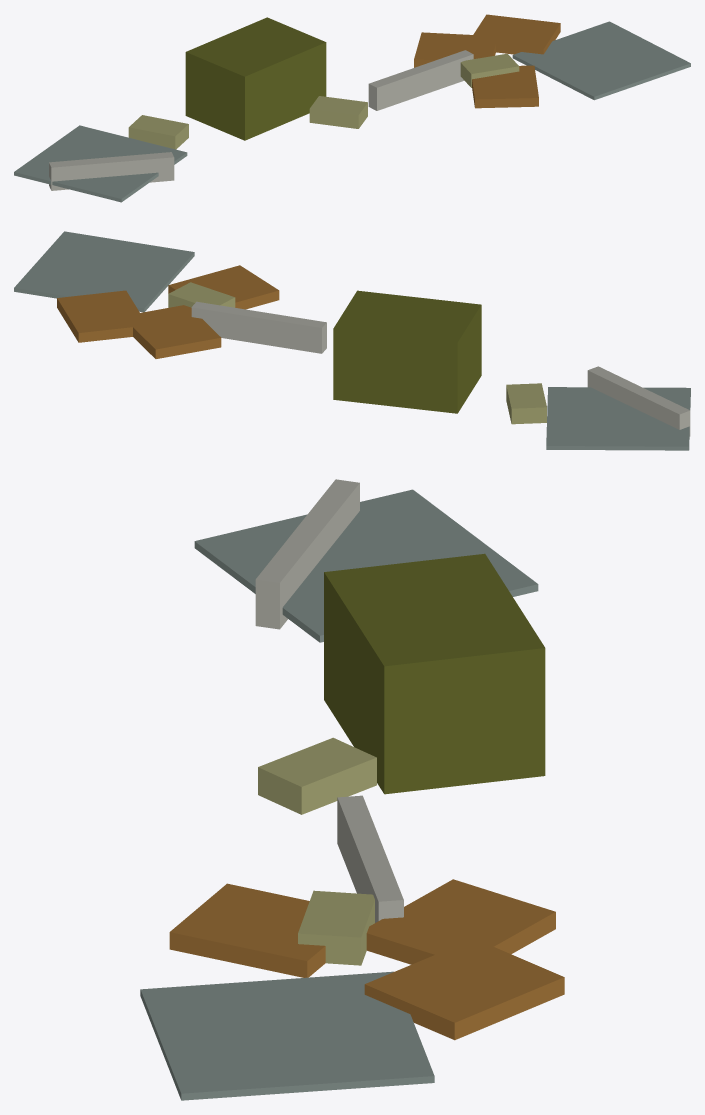
The model's file is SM_BarricadaCivil_v2_Vallas_e3_Brecha_LOD0.fbx.
The picture shows the model from 3 angles, top to bottom: view 1: azimuth 30°, elevation 25°; view 2: azimuth 150°, elevation 25°; view 3: azimuth 270°, elevation 25°; orthographic projection. The views are drawn at different scales.
Parts seen in each view (by area): view 1: SM_barricada_civil_v11_LOD0; view 2: SM_barricada_civil_v11_LOD0; view 3: SM_barricada_civil_v11_LOD0.
Boxes of the visible parts, <box> form: SM_barricada_civil_v11_LOD0: <box>14,14,690,202</box>; SM_barricada_civil_v11_LOD0: <box>14,231,690,450</box>; SM_barricada_civil_v11_LOD0: <box>140,479,564,1100</box>.
Size of the model in its own units: 11.14 by 1.2 by 3.3.
